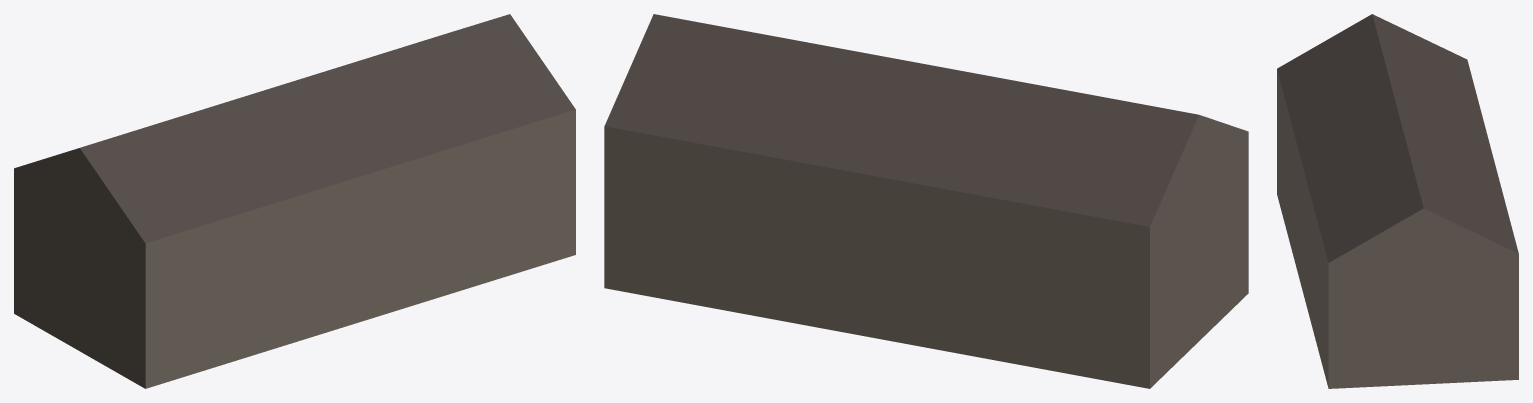
3 views of the same model, side by side, from view 1: azimuth 30°, elevation 25°; view 2: azimuth 150°, elevation 25°; view 3: azimuth 270°, elevation 25° (orthographic). The views are drawn at different scales.
Parts seen in each view (by area): view 1: HP-w859467777; view 2: HP-w859467777; view 3: HP-w859467777.
Boxes of the visible parts, x1,y1,x2,y2 form: HP-w859467777: (14,14,575,388); HP-w859467777: (604,14,1248,388); HP-w859467777: (1277,14,1518,388).
Size of the model in its own units: 31.19 by 12.58 by 15.67.
